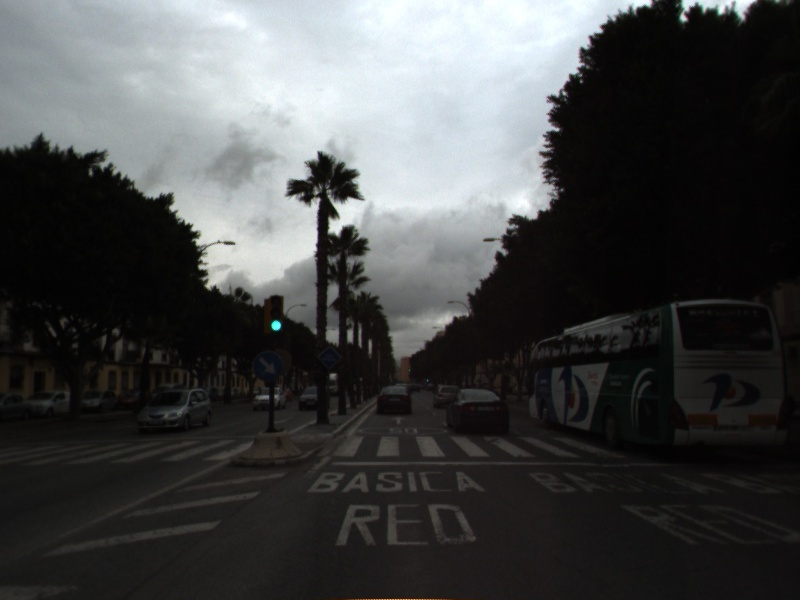STRAIGHT: (389, 414, 409, 427)
